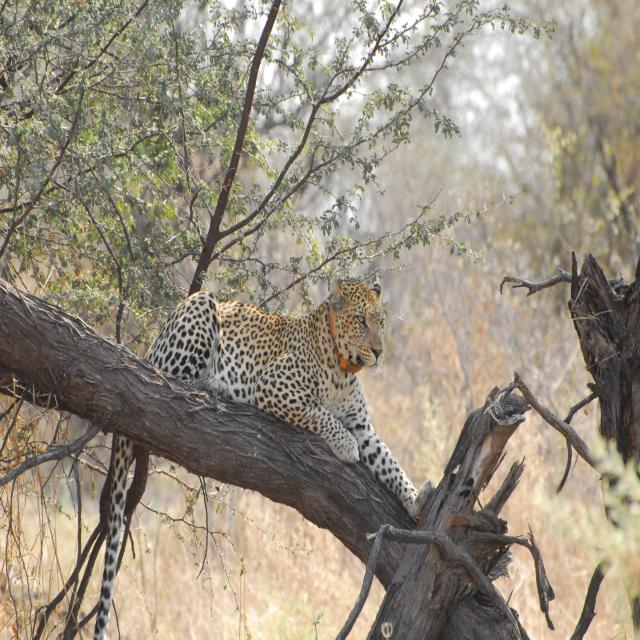Leopard: (74, 257, 450, 640)
